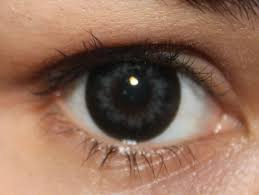pupil: (87, 57, 180, 139)
